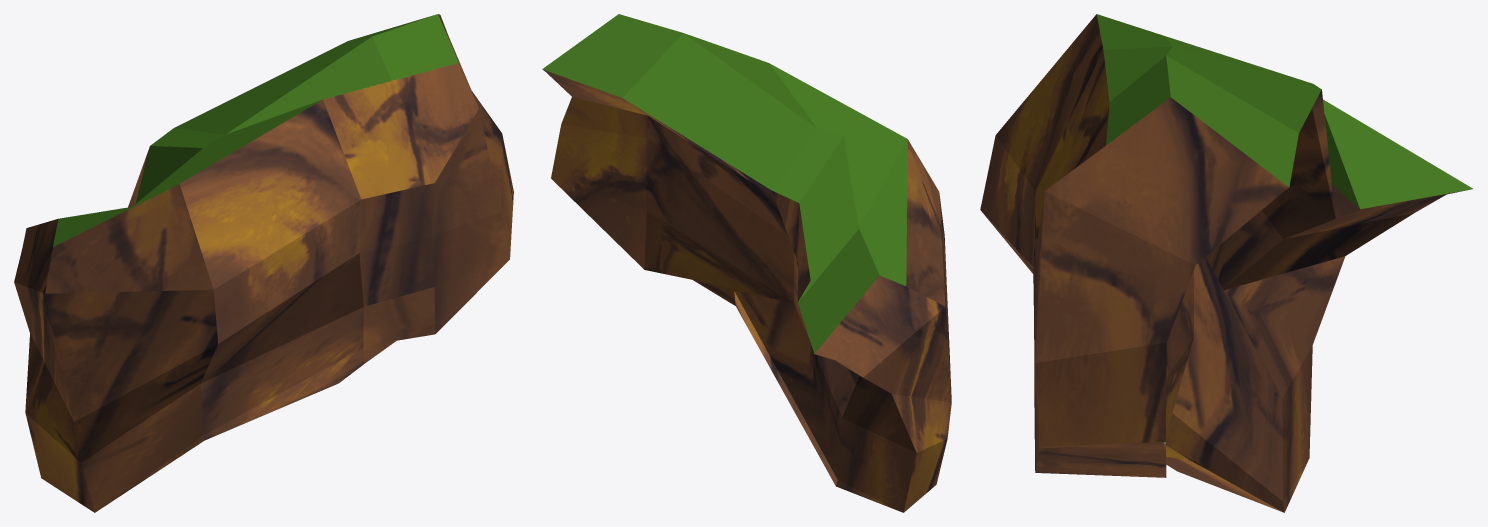
File: sali56.obj
The picture shows the model from 3 angles, left to right: view 1: azimuth 30°, elevation 25°; view 2: azimuth 150°, elevation 25°; view 3: azimuth 270°, elevation 25°; orthographic projection. The views are drawn at different scales.
Parts seen in each view (by area): view 1: Cube.008_Cube.005; view 2: Cube.008_Cube.005; view 3: Cube.008_Cube.005.
Boxes of the visible parts, left/top/right/bottom form: Cube.008_Cube.005: left=14, top=14, right=513, bottom=512; Cube.008_Cube.005: left=542, top=14, right=951, bottom=512; Cube.008_Cube.005: left=980, top=14, right=1472, bottom=512.
Bounding box in the file's own units: 163 × 146 × 105.
1 material, 1 textured.
